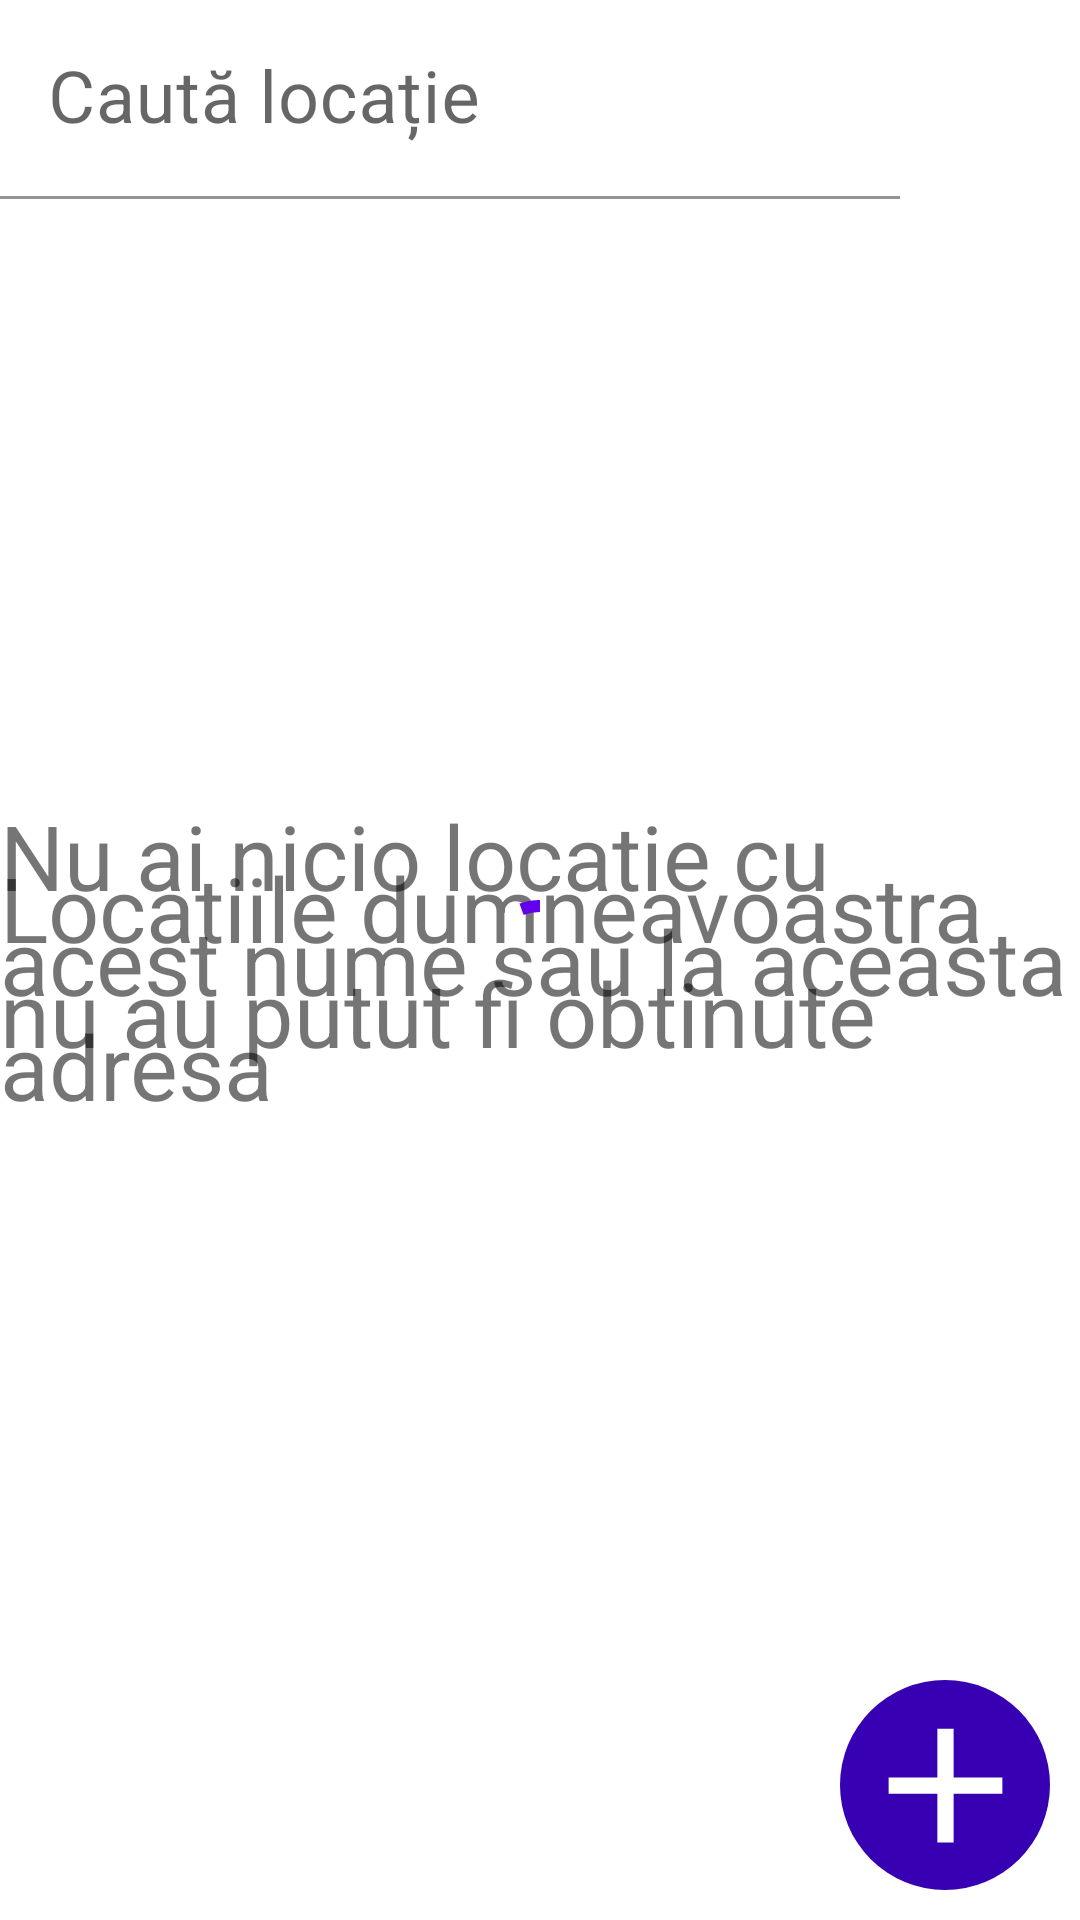

Icons on this 1080x1920 Android screen, each with its box as {"x1": x1, "y1": y1, "x2": x2, "y2": y2}:
add: {"x1": 840, "y1": 1680, "x2": 1050, "y2": 1890}
